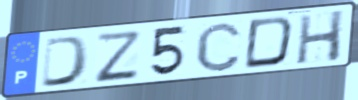5: (148, 23, 190, 79)
C: (193, 20, 243, 74)
D: (242, 15, 297, 71), (39, 34, 92, 89)
H: (294, 8, 347, 66)
Z: (94, 29, 141, 84)
